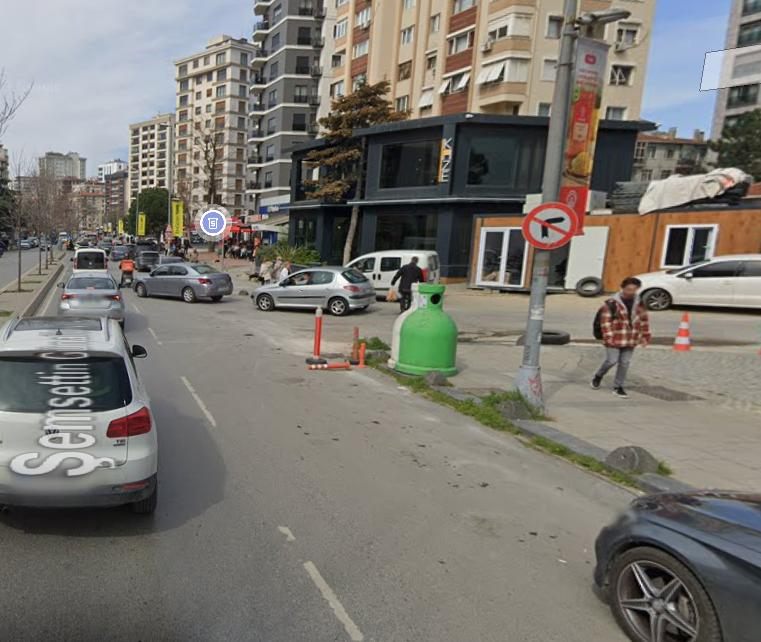rightturnsareforbidden: (524, 202, 578, 247)
